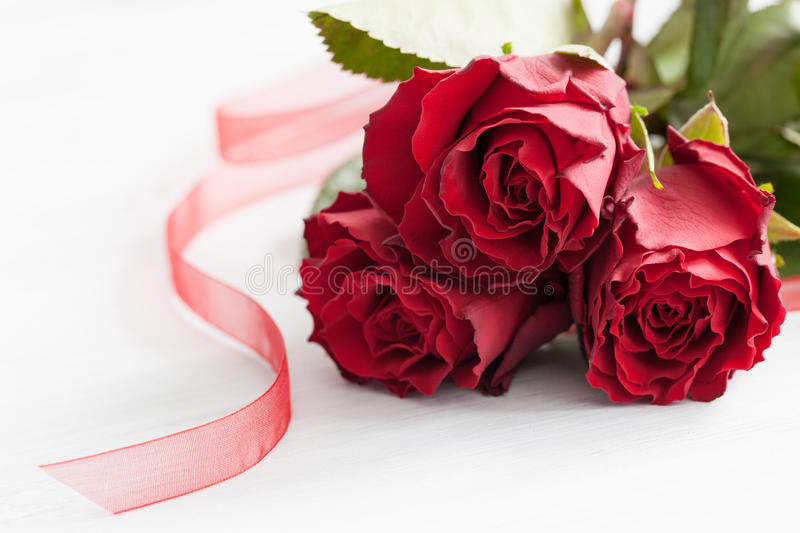RedRose: (553, 146, 765, 380), (382, 71, 617, 263), (308, 195, 500, 366)
